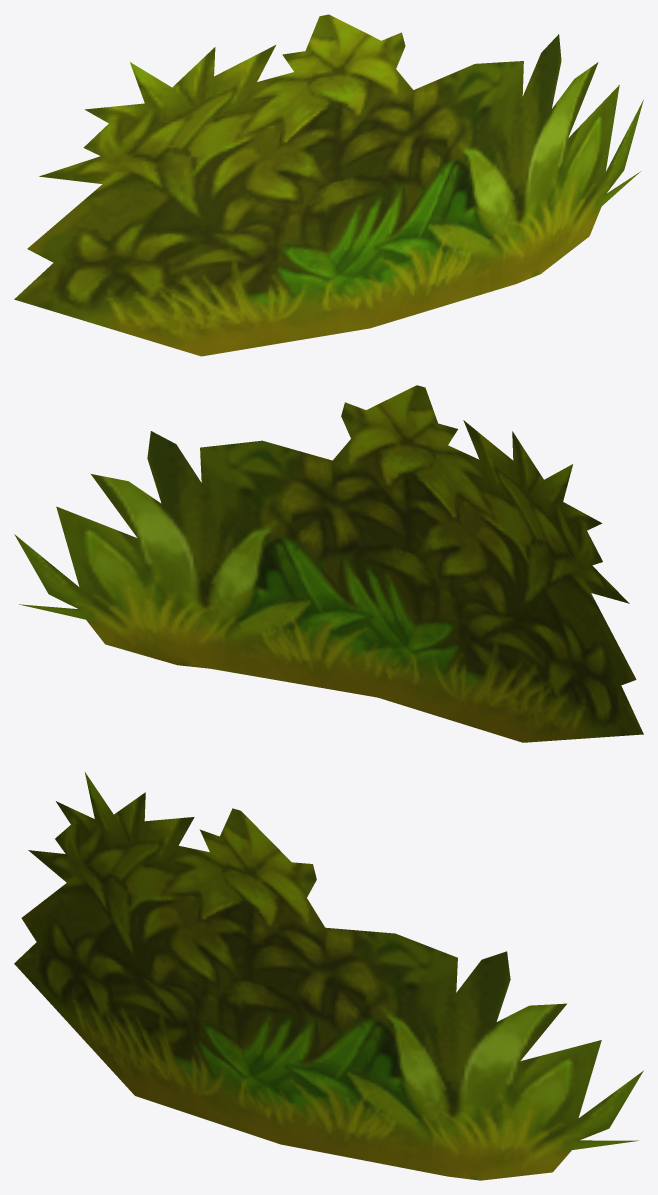
File: sences_changbanpo_guanmu003.FBX
3 views of the same model, one above another, from view 1: azimuth 30°, elevation 25°; view 2: azimuth 150°, elevation 25°; view 3: azimuth 330°, elevation 25° (orthographic).
Parts seen in each view (by area): view 1: sences_changbanpo_guanmu003; view 2: sences_changbanpo_guanmu003; view 3: sences_changbanpo_guanmu003.
Part boxes in pixels (<box>): sences_changbanpo_guanmu003: <box>14,14,643,356</box>; sences_changbanpo_guanmu003: <box>14,385,643,742</box>; sences_changbanpo_guanmu003: <box>14,772,643,1180</box>.
Size of the model in its own units: 2.4 by 0.2961 by 1.18.
